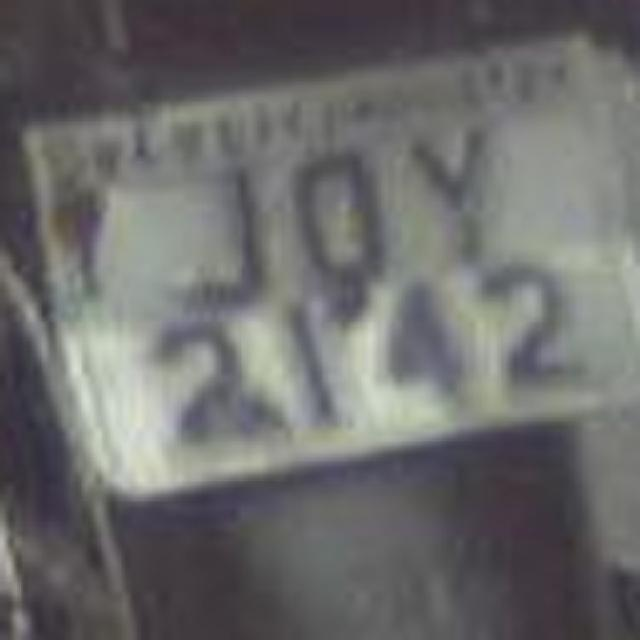1: (268, 268, 384, 432)
2: (120, 292, 292, 460), (448, 248, 604, 404)
3: (124, 292, 291, 476)
4: (360, 256, 488, 424)
J: (148, 144, 284, 308)
Y: (391, 100, 524, 272)
